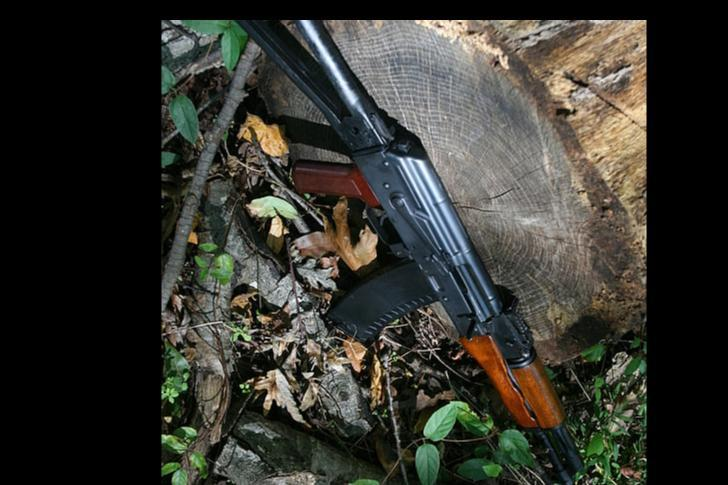larga: (234, 20, 589, 485)
